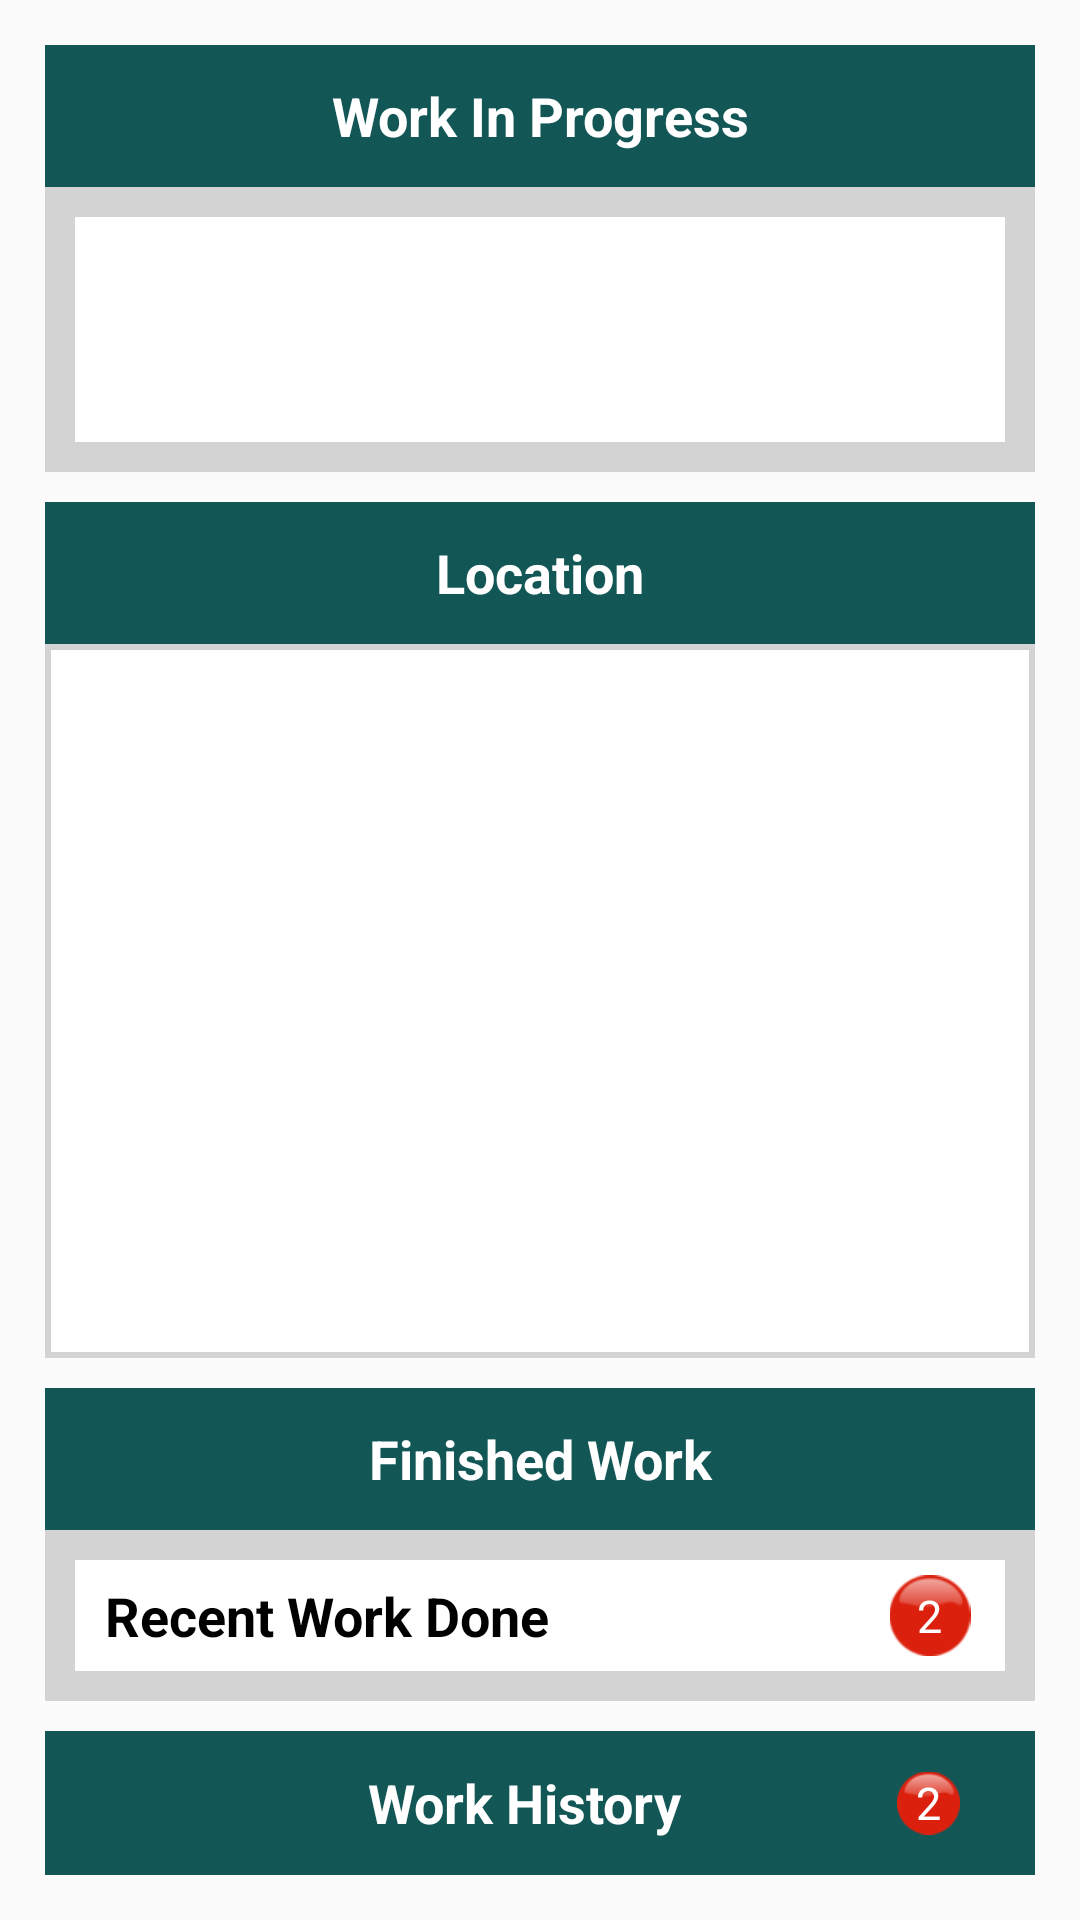

Locate icon controls on the screen. Image size 1080 × 1920, boxes as (x1, y1, x2, y2).
redcircle: (890, 1575, 971, 1656), (897, 1772, 960, 1835)
